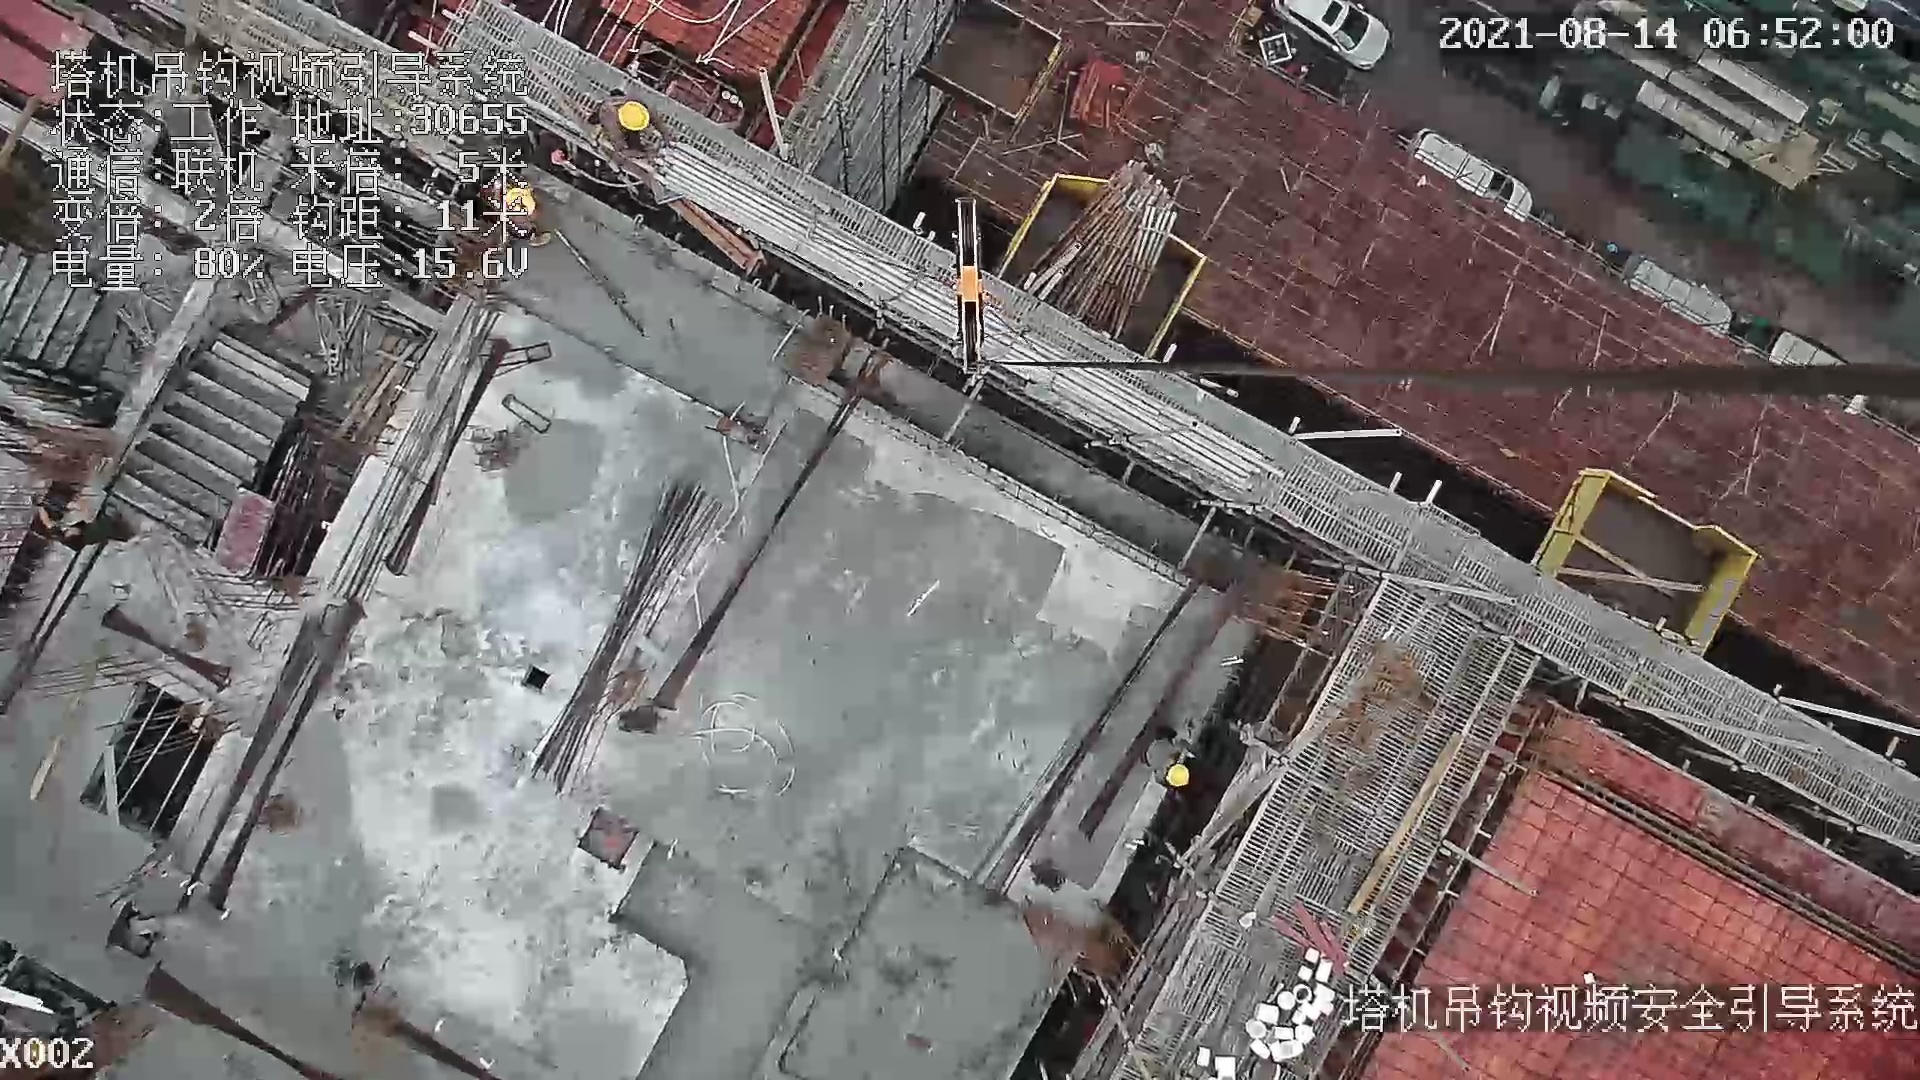helmet: (617, 99, 650, 130), (1165, 764, 1191, 788)
hook: (944, 197, 1003, 376)
person: (583, 87, 678, 167), (38, 500, 132, 550), (1140, 730, 1203, 794)
rebar: (654, 143, 1286, 493), (528, 483, 721, 796)
scaffold: (1027, 160, 1178, 341)
